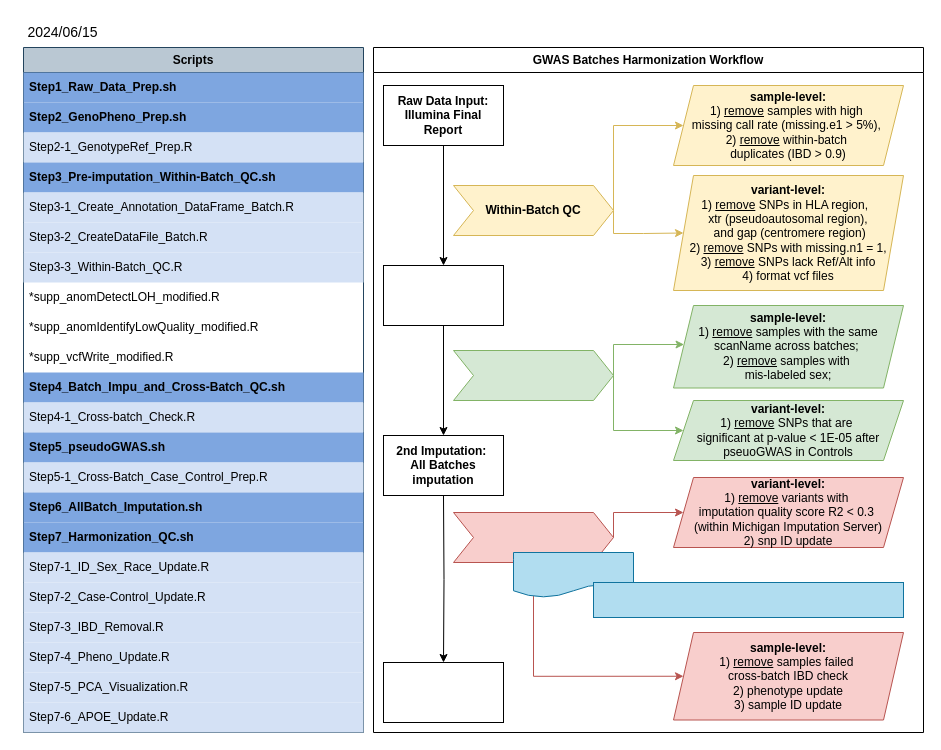
Some shapes in this 941 by 750 pixel diagram are drawn without their labels. The shapes that lost their labels are listed below. From the top down, each one's centre as x and y in pixels, then its label:
At point (443, 295): "1st Imputation: Batch-level".
At point (533, 375): "Cross-Batch QC".
At point (533, 537): "Final QC".
At point (573, 575): "Phenotype Cross-Check".
At point (748, 600): "Combining available samples from Harmonization and from the APOE24 Table".
At point (443, 692): "Harmonized Output".
